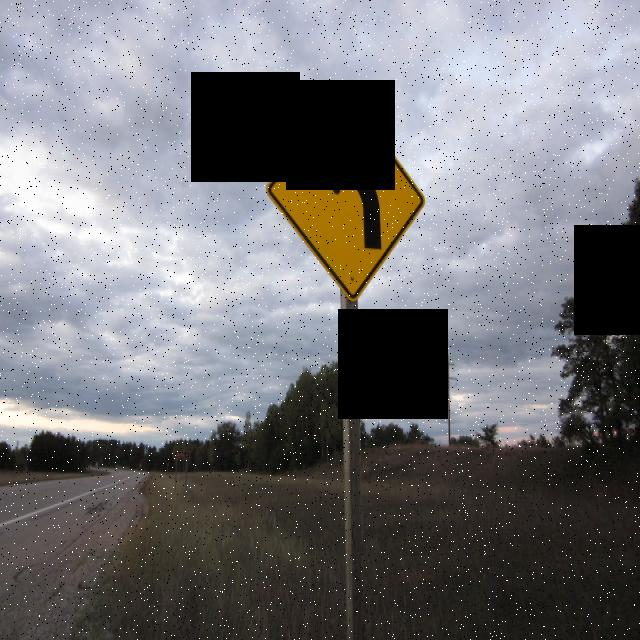warning: (265, 89, 427, 301)
